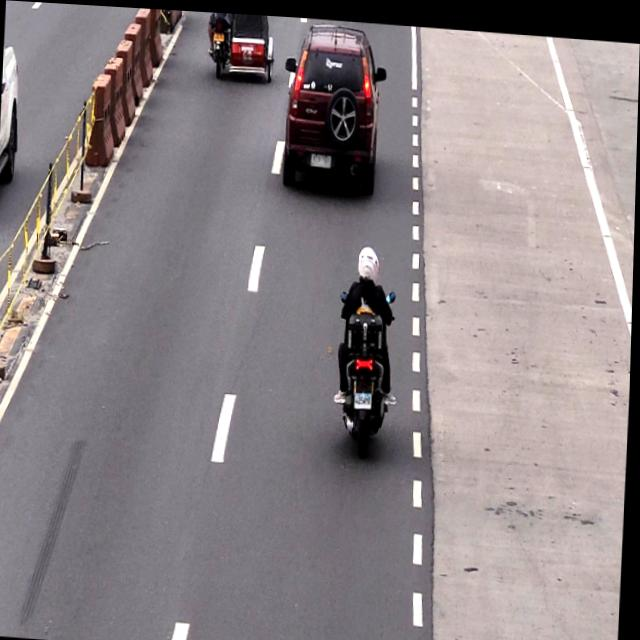Car: (281, 19, 383, 188)
License-Plate: (355, 387, 377, 409), (309, 145, 332, 166)
Motorcycle: (337, 241, 399, 456)
Tricycle: (208, 10, 276, 80)
